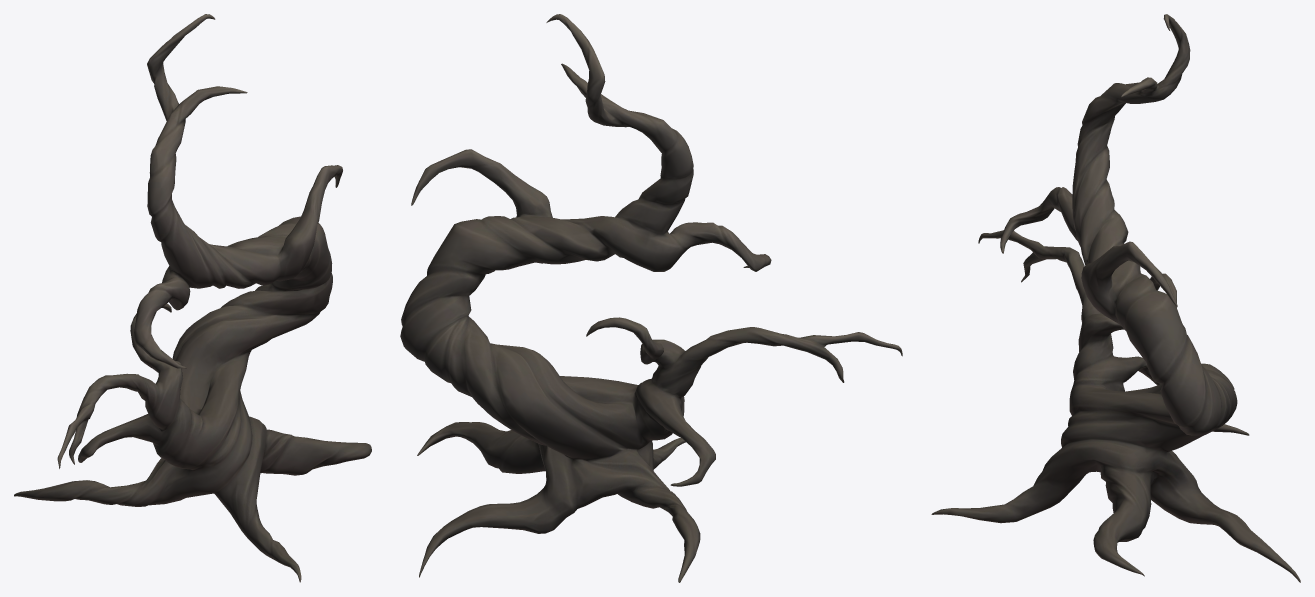
File: swirly_tree_01_b.glb
3 views of the same model, side by side, from view 1: azimuth 30°, elevation 25°; view 2: azimuth 150°, elevation 25°; view 3: azimuth 270°, elevation 25° (orthographic). The views are drawn at different scales.
Parts seen in each view (by area): view 1: SM_KC_SWIRLYTREE_01_B; view 2: SM_KC_SWIRLYTREE_01_B; view 3: SM_KC_SWIRLYTREE_01_B.
Boxes of the visible parts, x1=… form: SM_KC_SWIRLYTREE_01_B: x1=14, y1=14, x2=371, y2=582; SM_KC_SWIRLYTREE_01_B: x1=400, y1=14, x2=902, y2=582; SM_KC_SWIRLYTREE_01_B: x1=931, y1=14, x2=1300, y2=582.
Size of the model in its own units: 9.8 by 12.37 by 7.8.
Materials: 1 (1 with a texture image).
